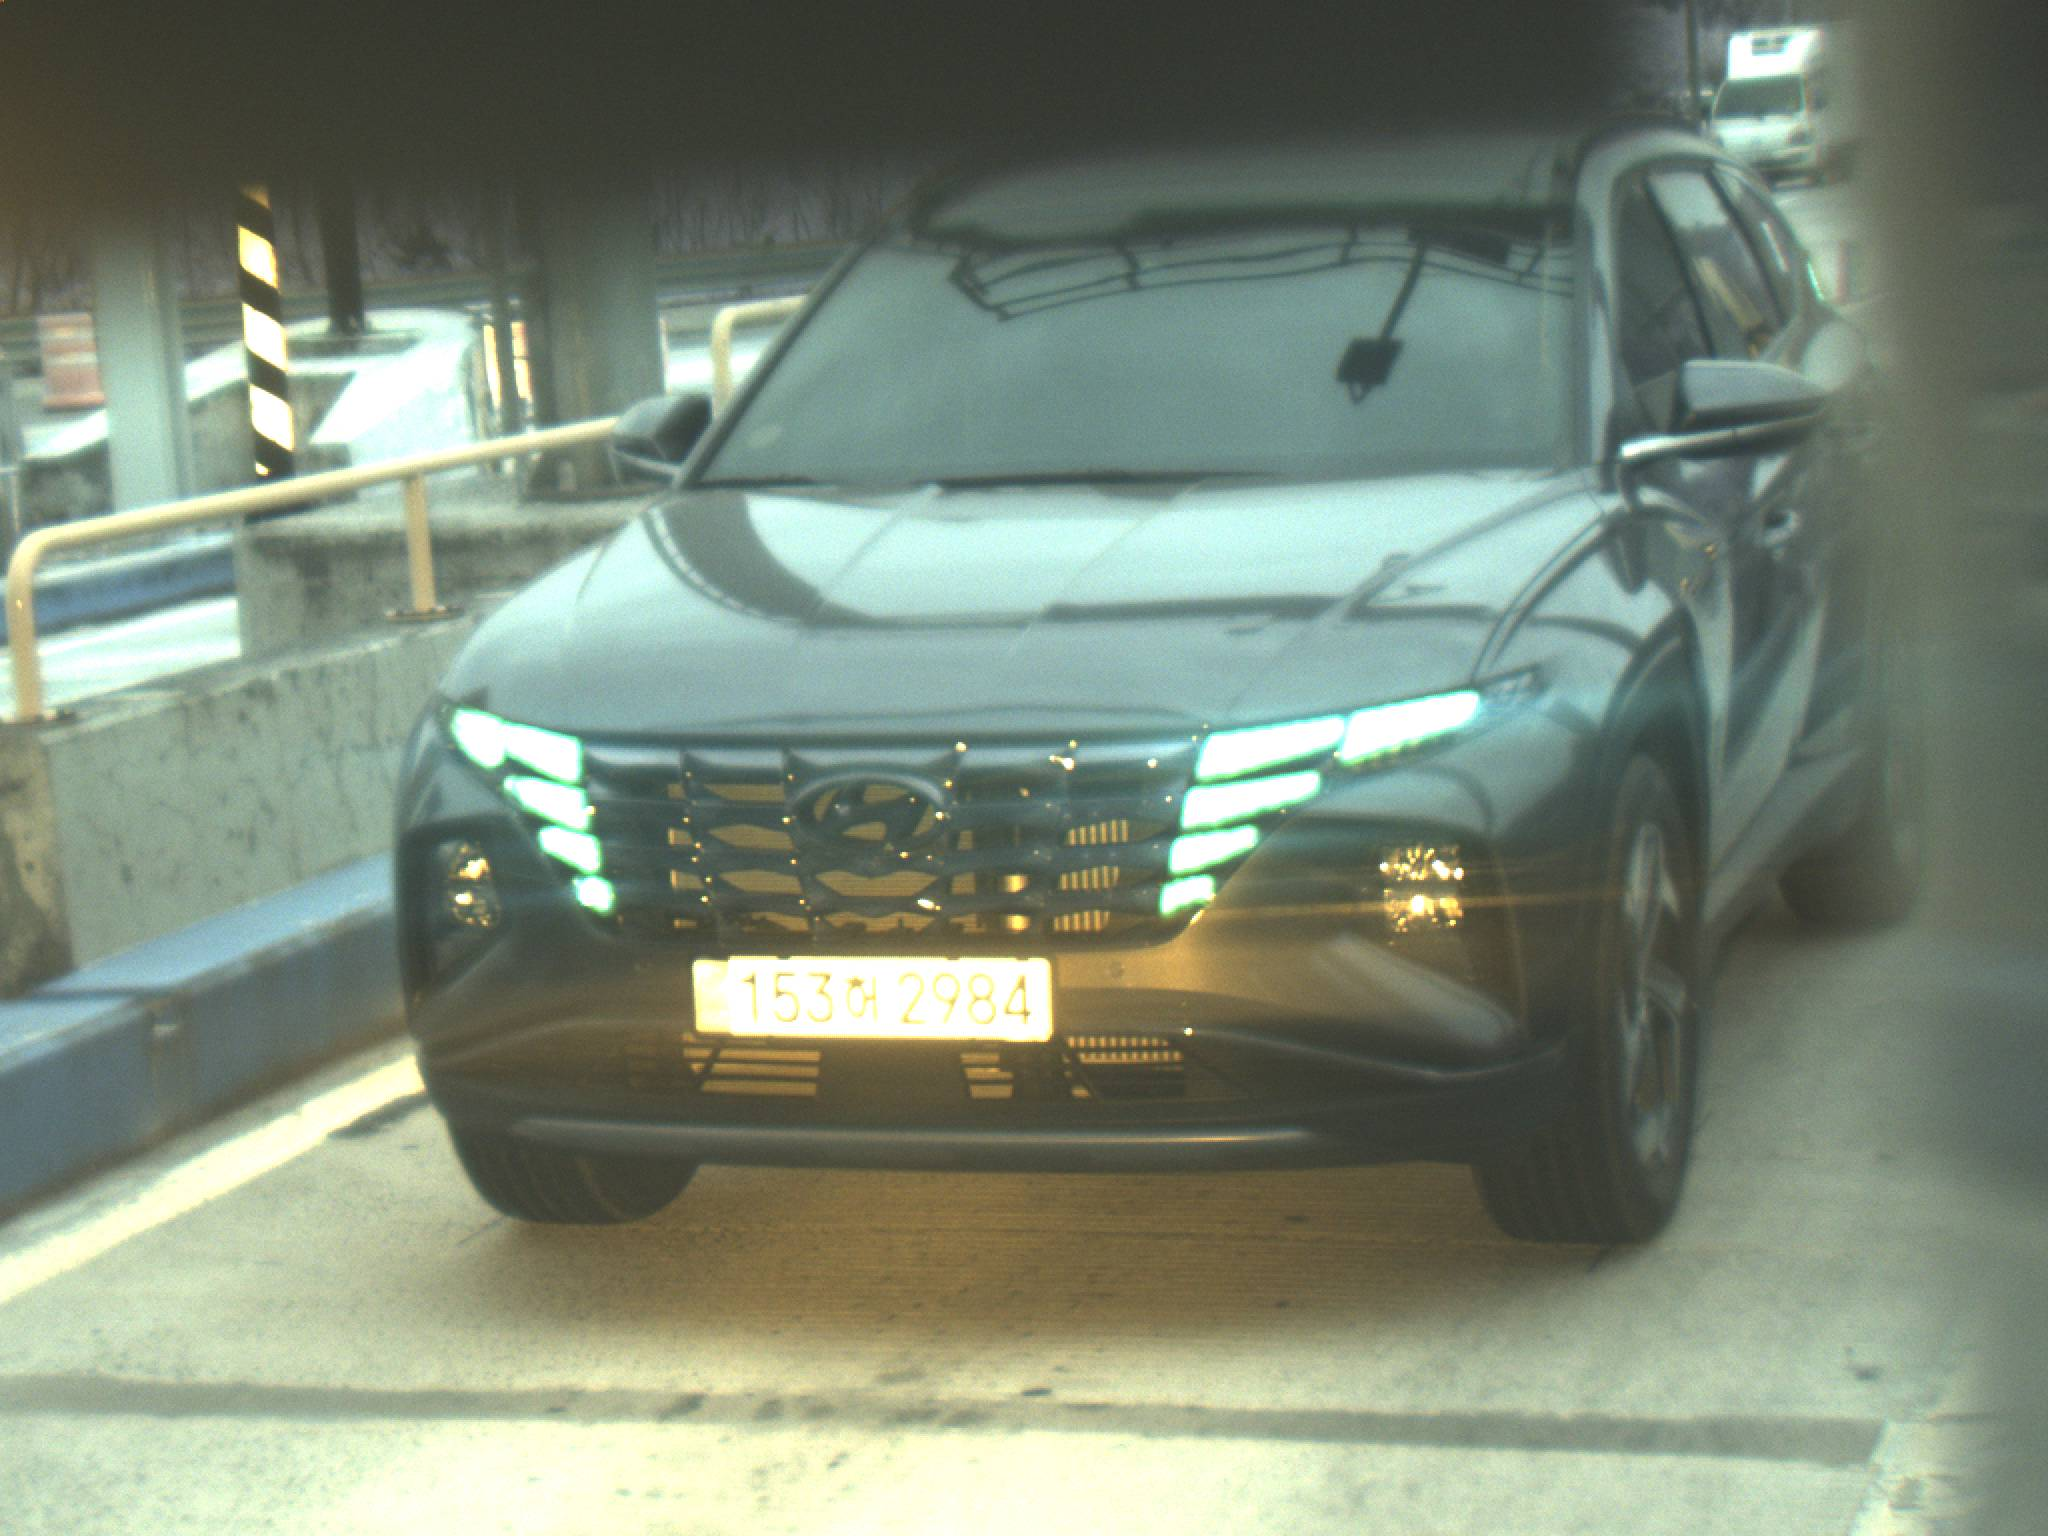car: (391, 107, 1937, 1257)
plate: (684, 945, 1059, 1048)
